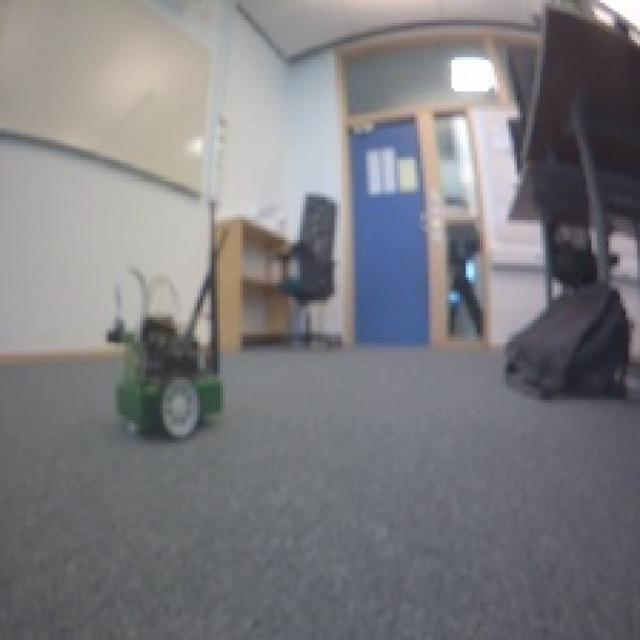robot: (111, 317, 226, 440)
